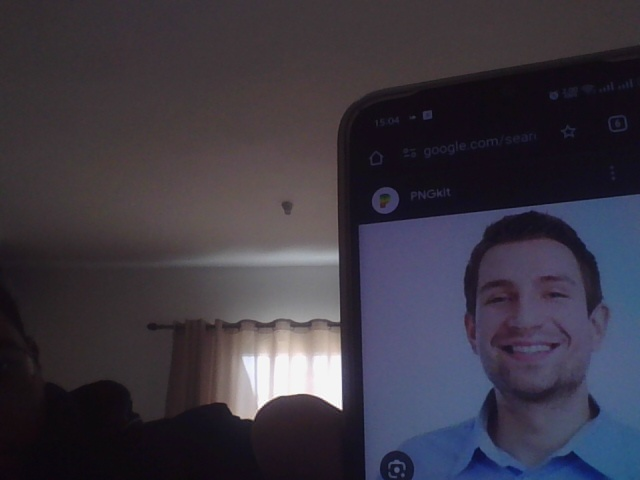fake: (460, 198, 605, 403)
